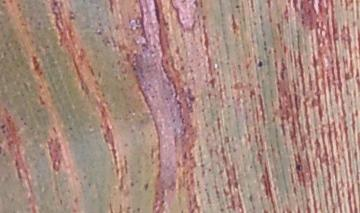tarspot: (294, 163, 303, 171), (257, 60, 264, 68), (233, 3, 241, 9), (1, 123, 6, 130)
